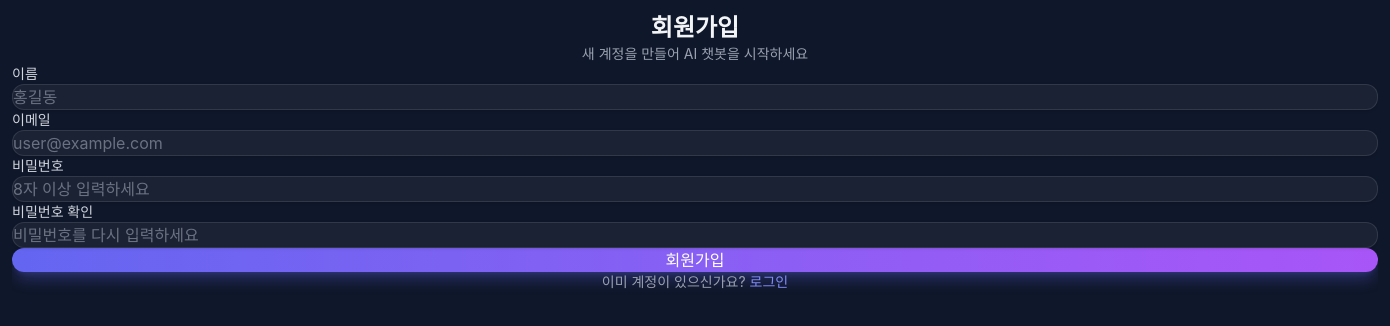
Scenario: RegisterForm › 비밀번호가 8자 미만이면 에러를 표시한다
Type "테스트" into the field labelled "이름" at (695, 97), box x1=12 y1=84 x2=1378 y2=110
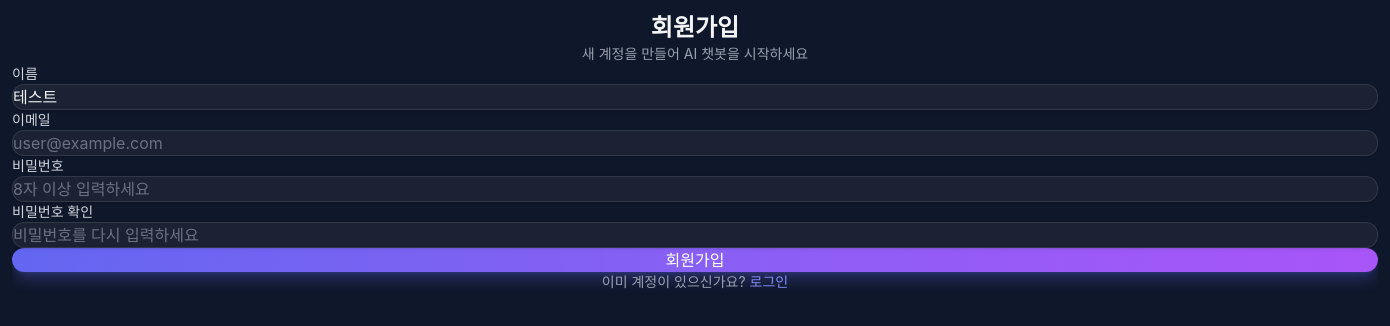
Type "test@example.com" into the field labelled "이메일" at (695, 143), box x1=12 y1=130 x2=1378 y2=156
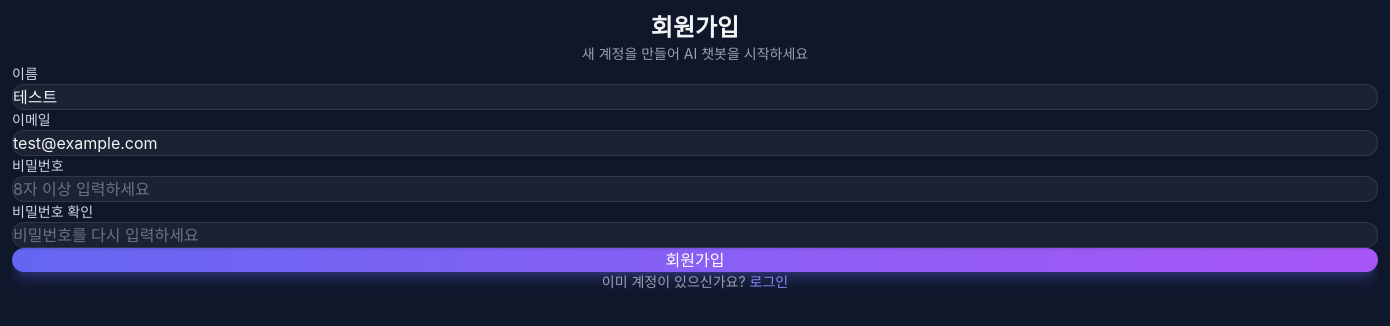
Type "1234" into the password field labelled "비밀번호" at (695, 189), box x1=12 y1=176 x2=1378 y2=202
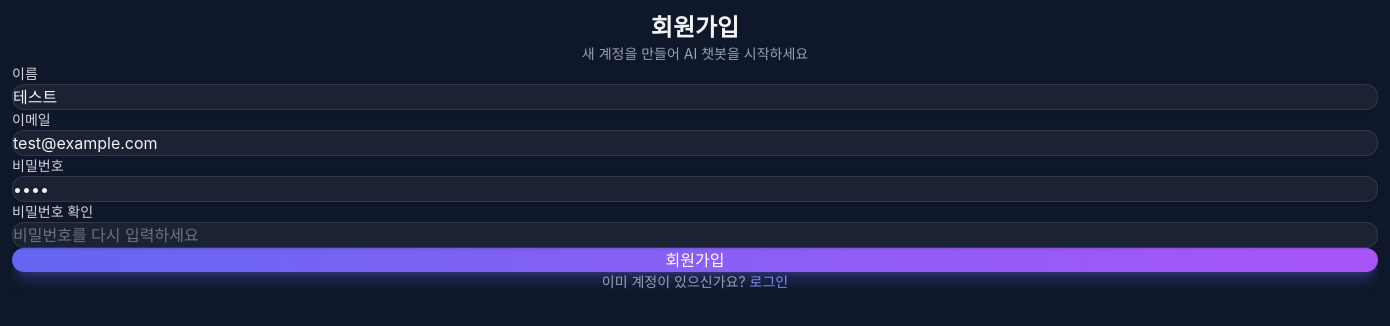
Type "1234" into the password field labelled "비밀번호 확인" at (695, 235), box x1=12 y1=222 x2=1378 y2=248
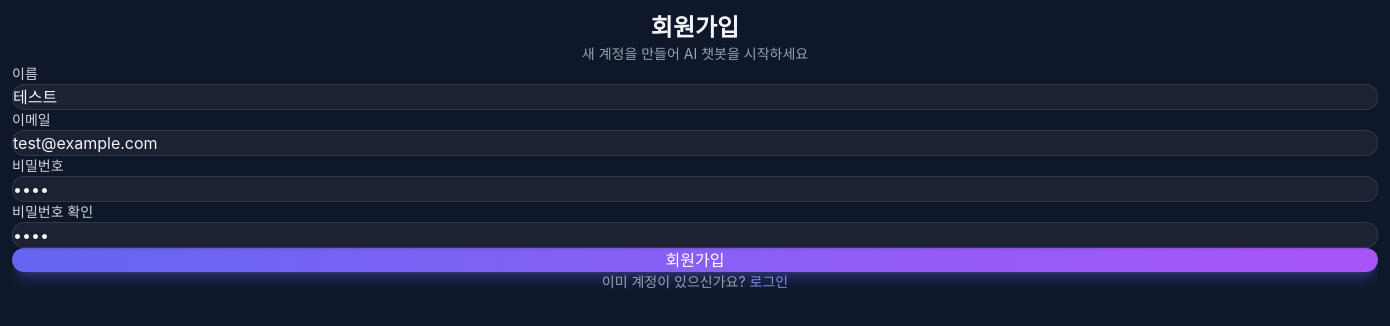
Click the button "회원가입" at (695, 260), box x1=12 y1=248 x2=1378 y2=272
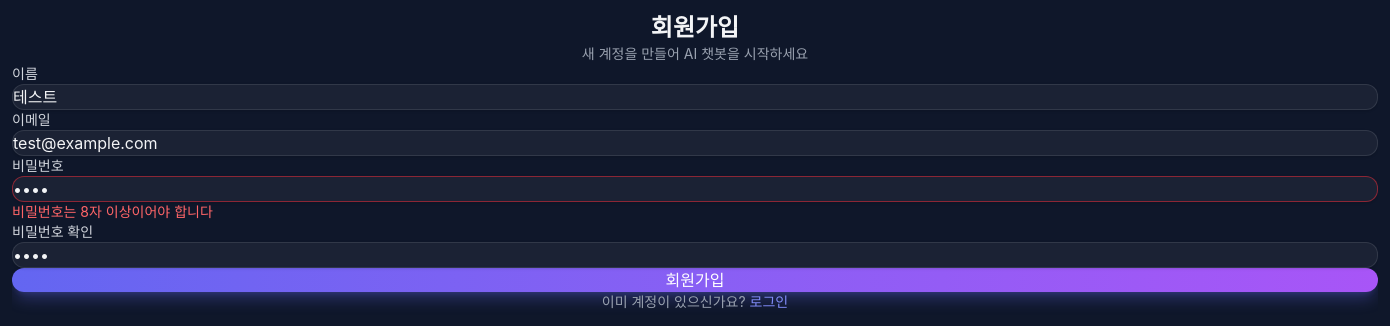
Result: the text "비밀번호는 8자 이상이어야 합니다" is shown at x1=12 y1=203 x2=213 y2=220
